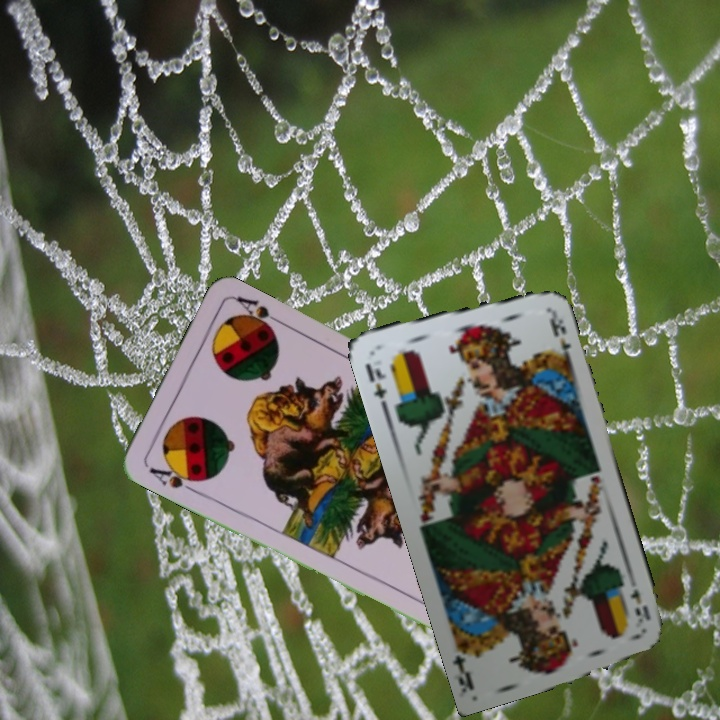EK: (361, 359, 390, 411), (627, 584, 653, 628)
SA: (145, 458, 203, 496)
